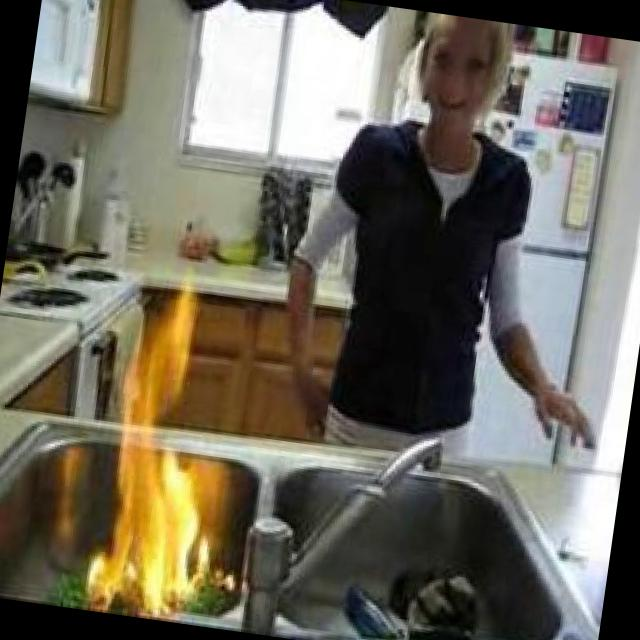Fire: (85, 280, 250, 622)
